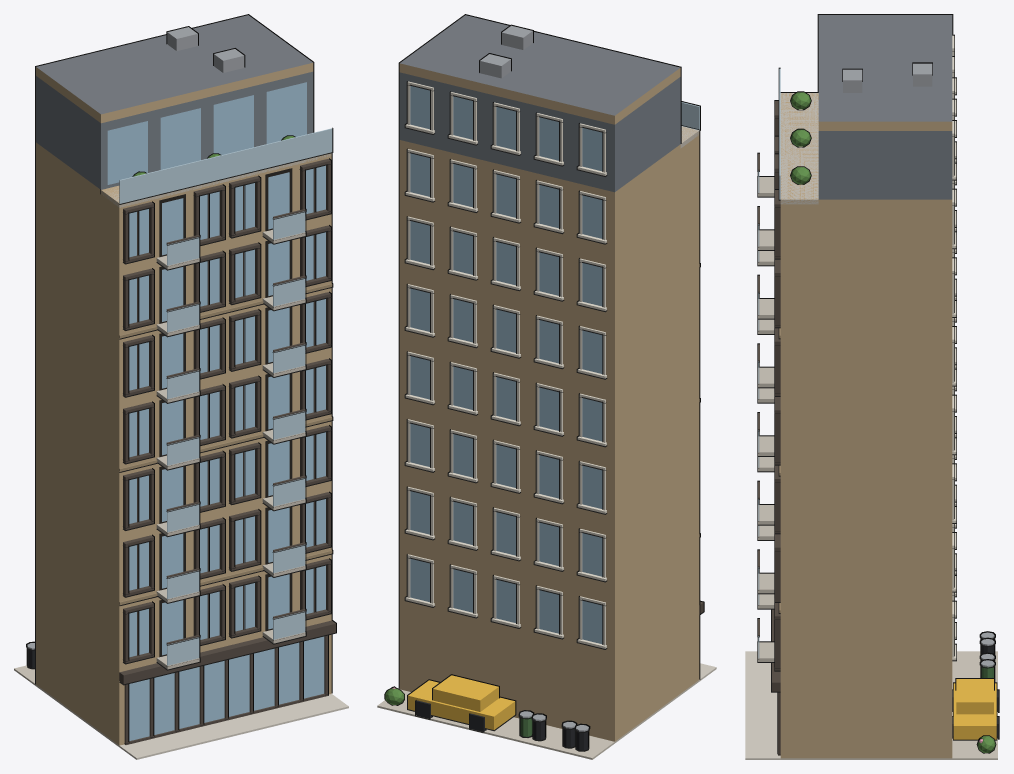
The model's file is Blok_duz_9k_5.fbx.
3 views of the same model, side by side, from view 1: azimuth 30°, elevation 25°; view 2: azimuth 150°, elevation 25°; view 3: azimuth 270°, elevation 25° (orthographic). The views are drawn at different scales.
Visible parts, largest first — view 1: Blok_duz_9k_5; view 2: Blok_duz_9k_5; view 3: Blok_duz_9k_5.
Boxes of the visible parts, x1,y1,x2,y2 form: Blok_duz_9k_5: (14,14,348,759); Blok_duz_9k_5: (377,14,716,759); Blok_duz_9k_5: (745,14,999,759).
Size of the model in its own units: 10.06 by 28.46 by 10.07.
